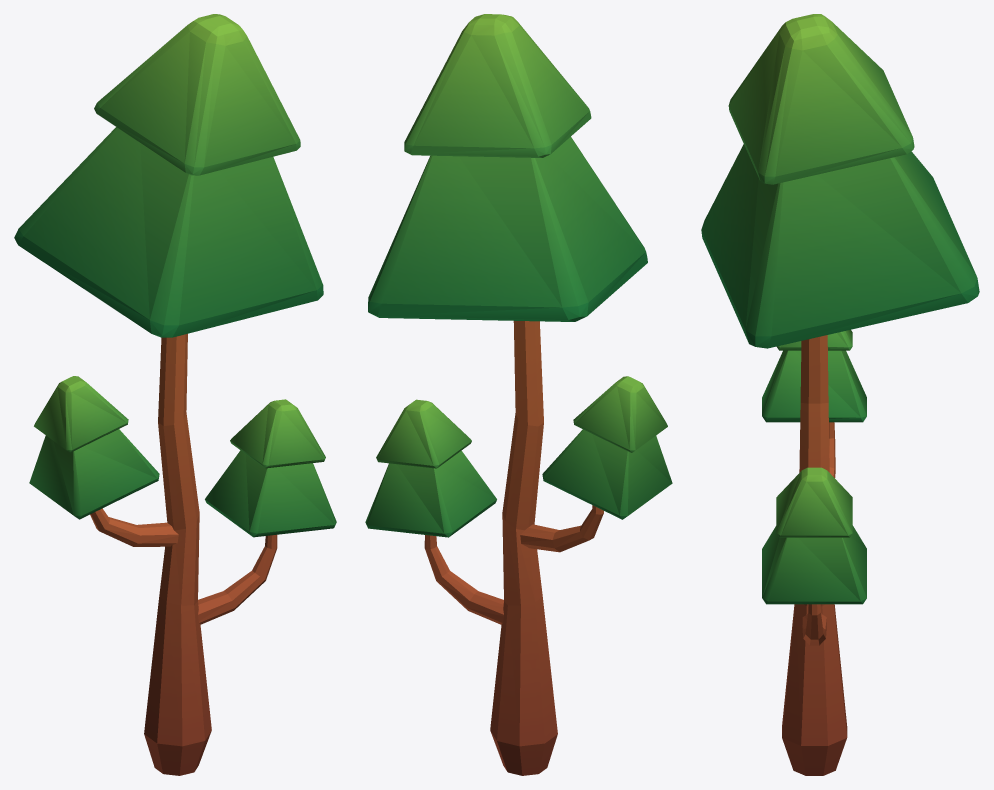
The model's file is kf_tree_4_b.fbx.
3 renders of one model, left to right at view 1: azimuth 30°, elevation 25°; view 2: azimuth 150°, elevation 25°; view 3: azimuth 270°, elevation 25°, orthographic. The views are drawn at different scales.
Visible parts, largest first — view 1: kf_tree_4_b_LOD0; view 2: kf_tree_4_b_LOD0; view 3: kf_tree_4_b_LOD0.
Part boxes in pixels (left/top/right/bottom): kf_tree_4_b_LOD0: left=14, top=14, right=336, bottom=775; kf_tree_4_b_LOD0: left=365, top=14, right=672, bottom=775; kf_tree_4_b_LOD0: left=701, top=14, right=979, bottom=775.
Size of what is drawn, in the model's own units: 2.96 by 7.98 by 2.61.
Materials: 1 (1 with a texture image).
